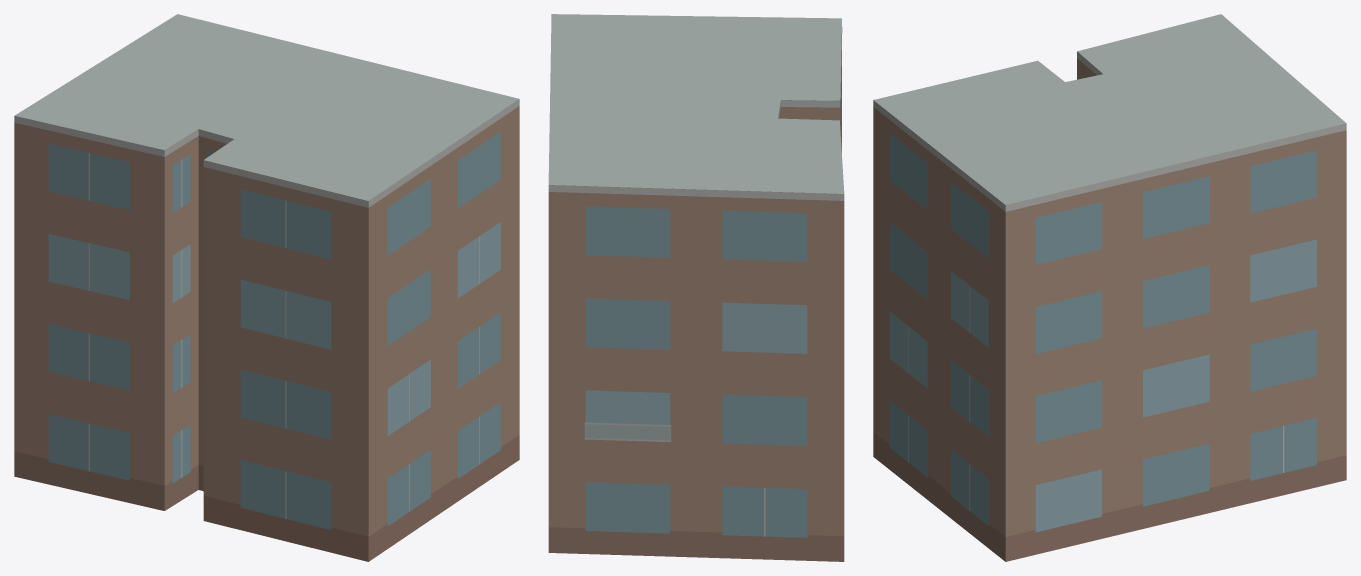
The model's file is survey-upis-32609271.glb.
3 renders of one model, left to right at view 1: azimuth 30°, elevation 25°; view 2: azimuth 150°, elevation 25°; view 3: azimuth 270°, elevation 25°, orthographic. The views are drawn at different scales.
Parts seen in each view (by area): view 1: survey-upis-32609271.tmp; view 2: survey-upis-32609271.tmp; view 3: survey-upis-32609271.tmp.
Boxes of the visible parts, bbox=[...] form: survey-upis-32609271.tmp: bbox=[14, 14, 519, 561]; survey-upis-32609271.tmp: bbox=[548, 14, 844, 561]; survey-upis-32609271.tmp: bbox=[873, 14, 1346, 561].
Bounding box in the file's own units: 14.84 × 12.9 × 15.53.
